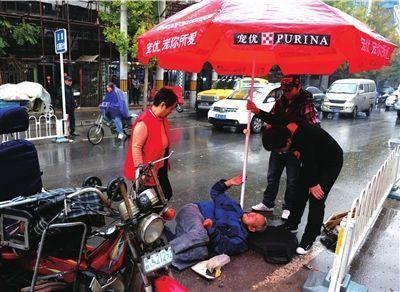Fall-Detected: (162, 168, 278, 275)
